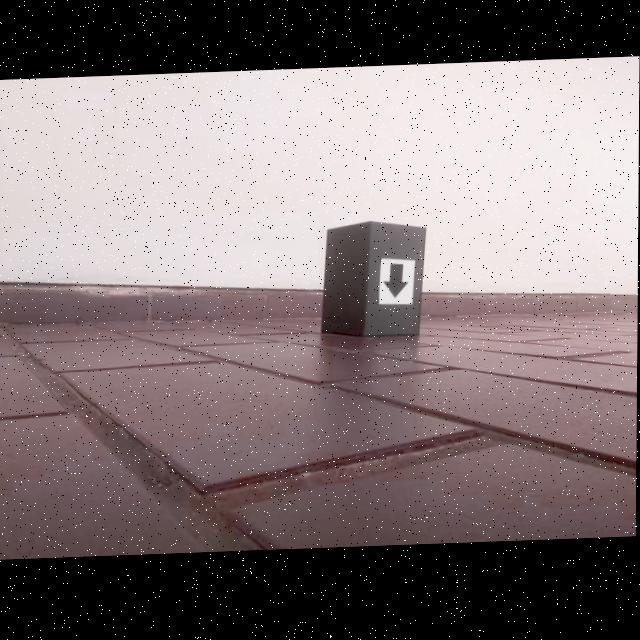DOWN: (382, 266, 410, 302)
